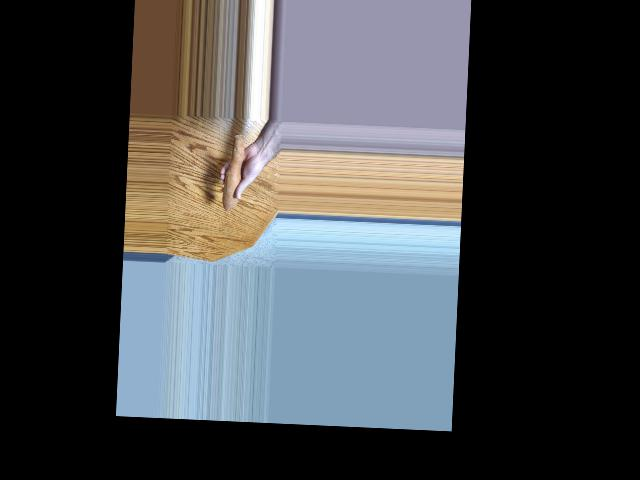sweet_potato: (219, 130, 247, 213)
